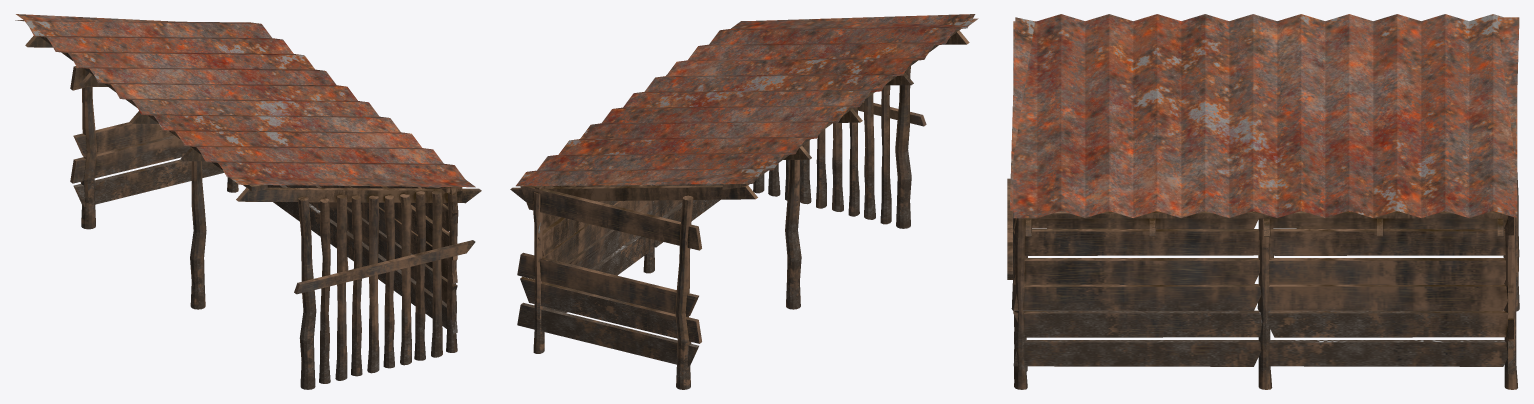
The model's file is ShedTx.fbx.
The picture shows the model from 3 angles, left to right: view 1: azimuth 30°, elevation 25°; view 2: azimuth 150°, elevation 25°; view 3: azimuth 270°, elevation 25°; orthographic projection. The views are drawn at different scales.
Parts seen in each view (by area): view 1: Shed; view 2: Shed; view 3: Shed.
Part boxes in pixels (bbox=[...]): Shed: bbox=[15, 14, 481, 389]; Shed: bbox=[510, 14, 978, 389]; Shed: bbox=[1007, 14, 1519, 389].
Bounding box in the file's own units: 1115 × 979 × 1778.
Materials: 1 (1 with a texture image).
